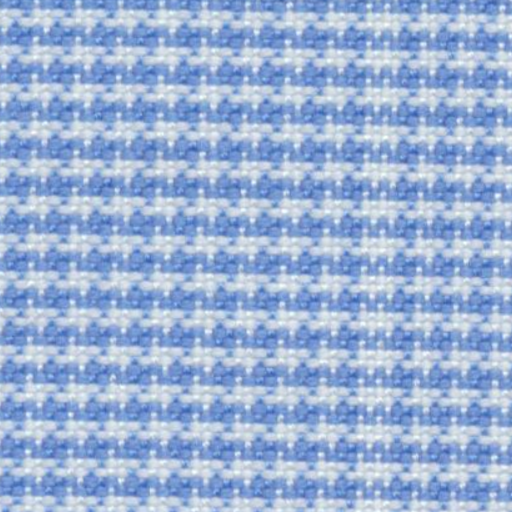TuoSha: (334, 22, 429, 498)
